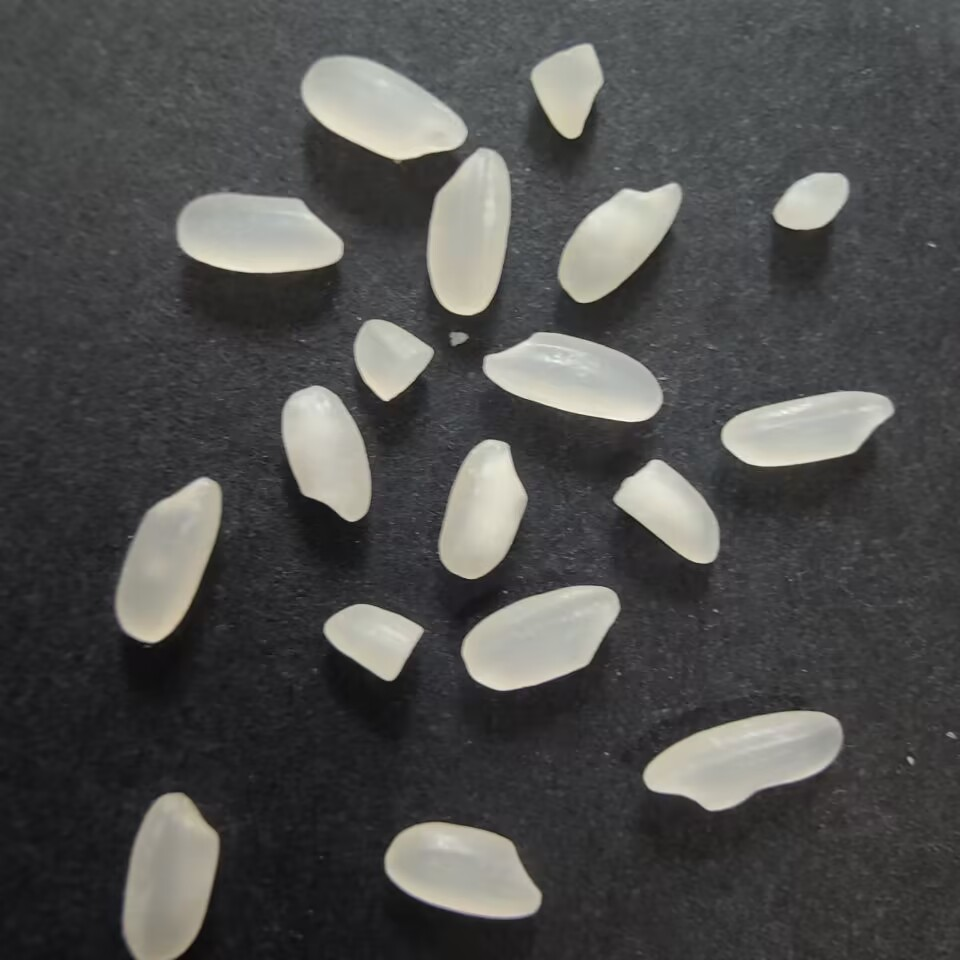broken: (608, 453, 728, 574), (314, 595, 427, 689), (522, 41, 613, 143), (346, 316, 437, 406), (767, 167, 856, 235)
rice: (634, 702, 850, 813), (110, 469, 227, 654), (474, 325, 667, 426), (298, 53, 473, 163), (458, 580, 622, 697), (113, 788, 222, 959), (378, 817, 550, 923), (552, 174, 689, 306), (169, 186, 353, 279), (714, 383, 900, 473), (422, 144, 513, 317), (435, 430, 532, 583), (279, 382, 376, 528)
